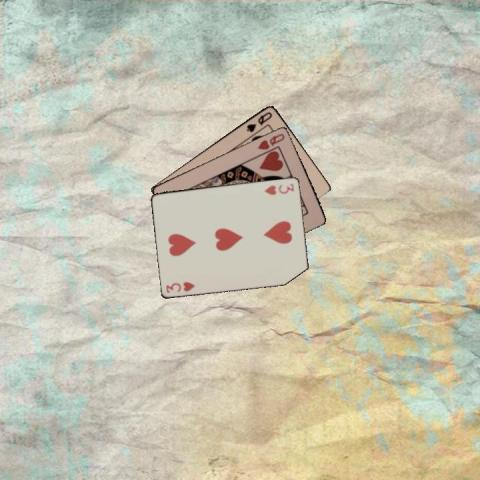3h: (262, 181, 295, 196), (163, 279, 196, 294)
Qh: (255, 130, 286, 151)
Qs: (244, 109, 274, 133)
